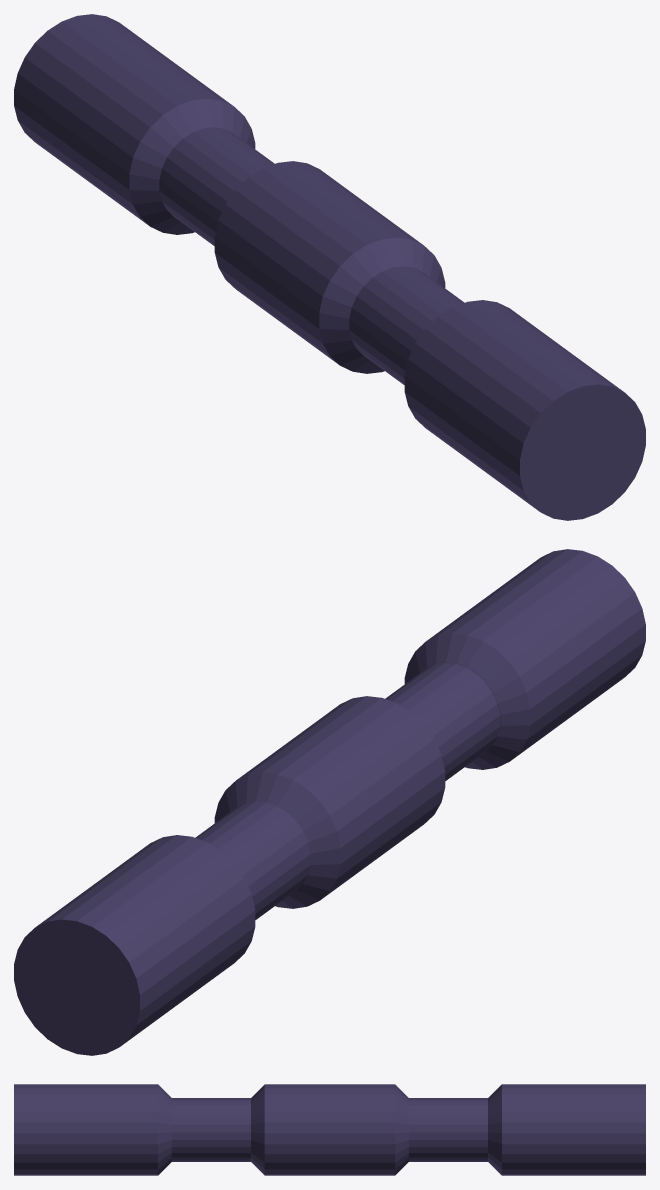
3 renders of one model, top to bottom at view 1: azimuth 30°, elevation 25°; view 2: azimuth 150°, elevation 25°; view 3: azimuth 270°, elevation 25°, orthographic. The views are drawn at different scales.
Visible parts, largest first — view 1: Circle.002; view 2: Circle.002; view 3: Circle.002.
Part boxes in pixels (left/top/right/bottom): Circle.002: left=14, top=14, right=645, bottom=520; Circle.002: left=14, top=549, right=645, bottom=1055; Circle.002: left=14, top=1084, right=645, bottom=1175.
Bounding box in the file's own units: 1.99 × 2 × 13.8.
